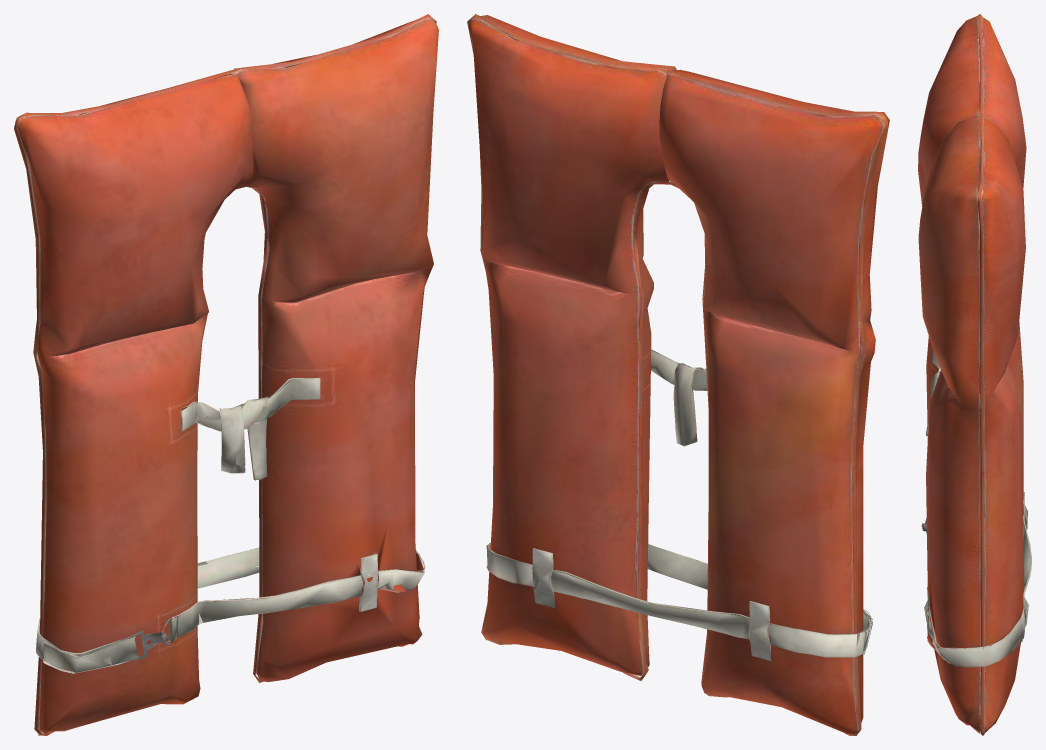
File: life_jacket.glb
The picture shows the model from 3 angles, left to right: view 1: azimuth 30°, elevation 25°; view 2: azimuth 150°, elevation 25°; view 3: azimuth 270°, elevation 25°; orthographic projection. The views are drawn at different scales.
Visible parts, largest first — view 1: life_jacket; view 2: life_jacket; view 3: life_jacket.
Boxes of the visible parts, box(x1,y1,x2,y2) form: life_jacket: box(14, 14, 438, 735); life_jacket: box(467, 14, 889, 735); life_jacket: box(918, 14, 1031, 735).
Bounding box in the file's own units: 0.6967 × 0.9942 × 0.1842.
1 material, 1 textured.
